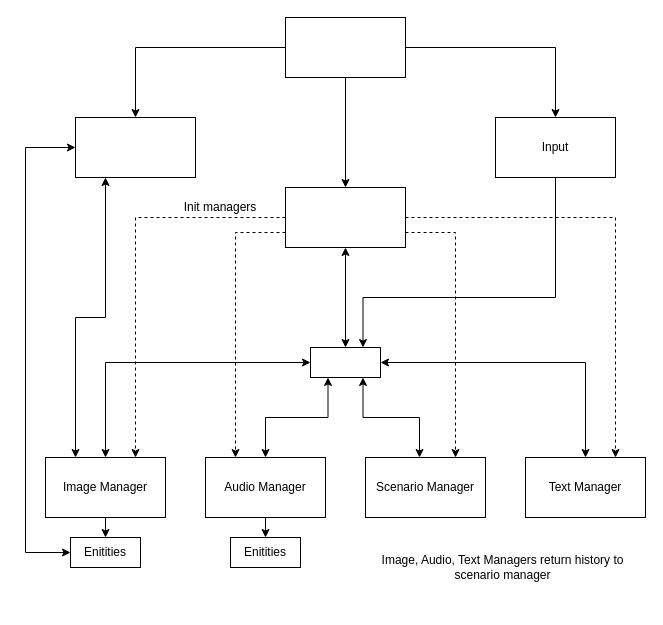
Some shapes in this 663 by 625 pixel diagram are drawn without their labels. The shapes that lost their labels are listed below. From the top down, each one's box as (x1, y1, x2, y2) in pixels, then its label:
(284, 16, 406, 78): Program (Entry point)
(74, 116, 196, 178): Graphics
(284, 186, 406, 248): Screen Manager
(310, 346, 380, 378): Screens
